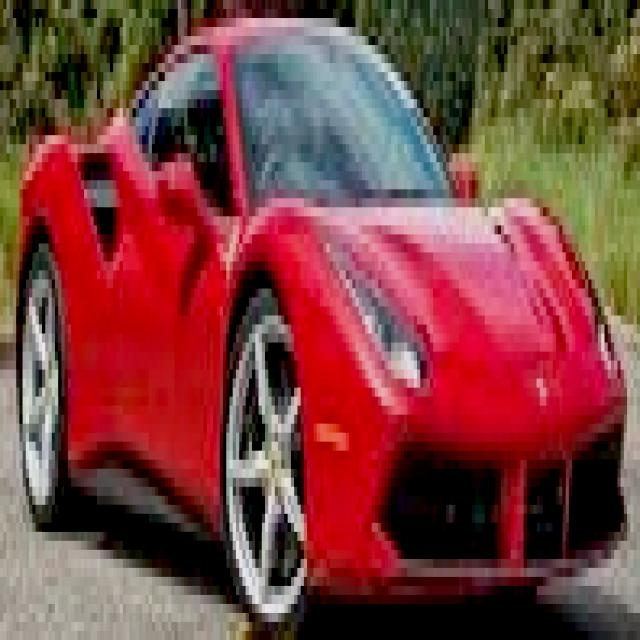red: (20, 19, 625, 614)
